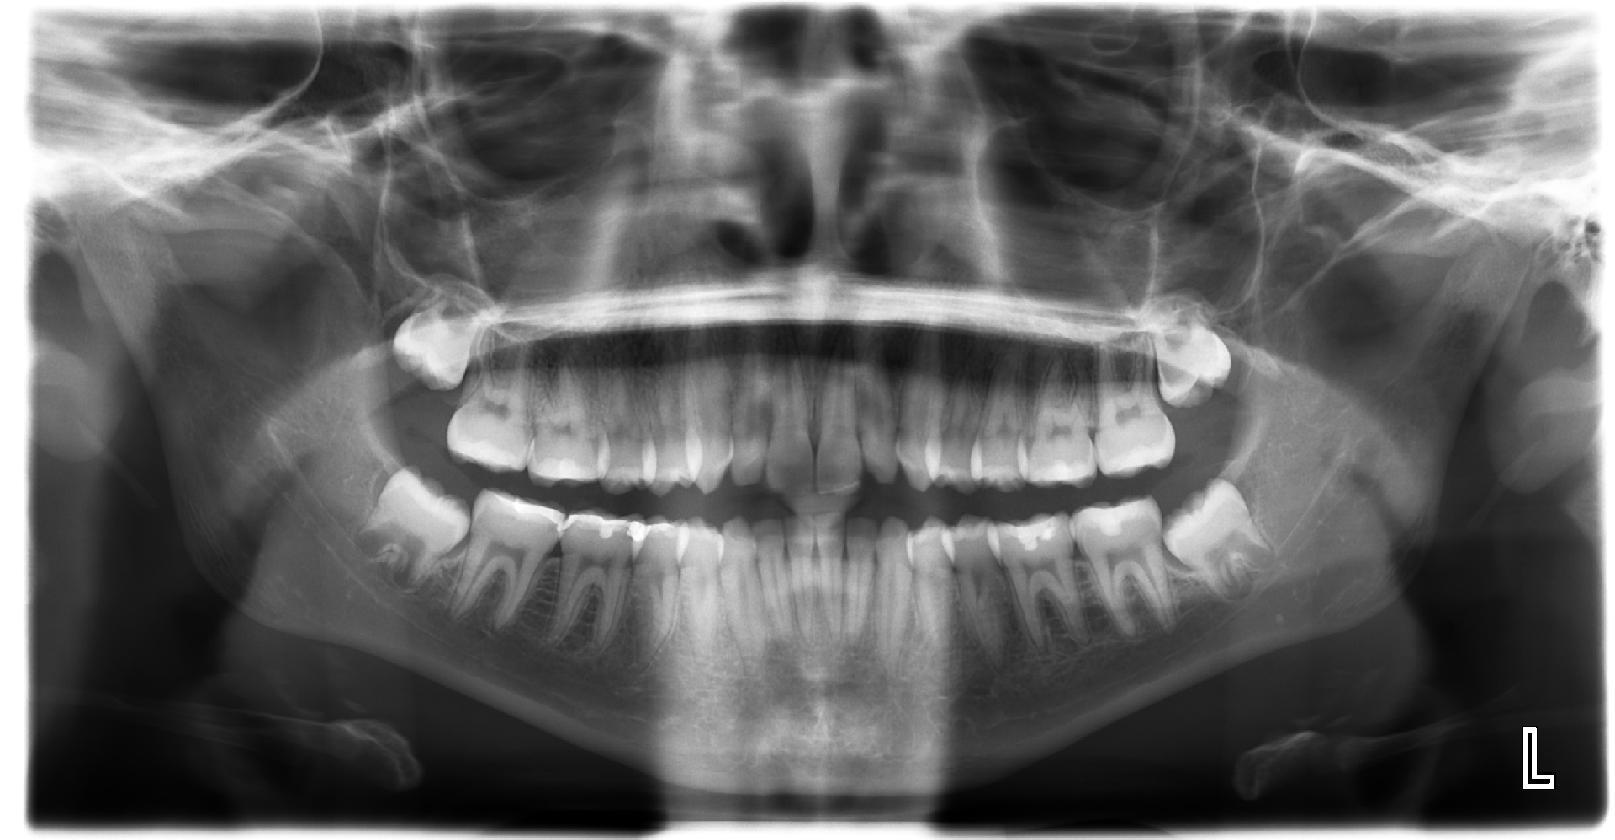Mesio-angular: (359, 462, 471, 596), (1160, 478, 1274, 598)
